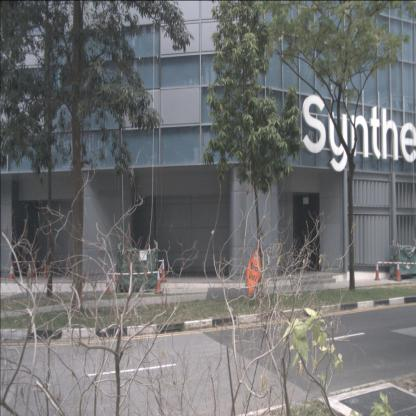cone: (154, 268, 163, 293), (104, 271, 112, 294), (394, 259, 402, 281), (160, 258, 167, 281), (8, 260, 16, 280), (374, 260, 380, 280), (42, 258, 48, 277)
